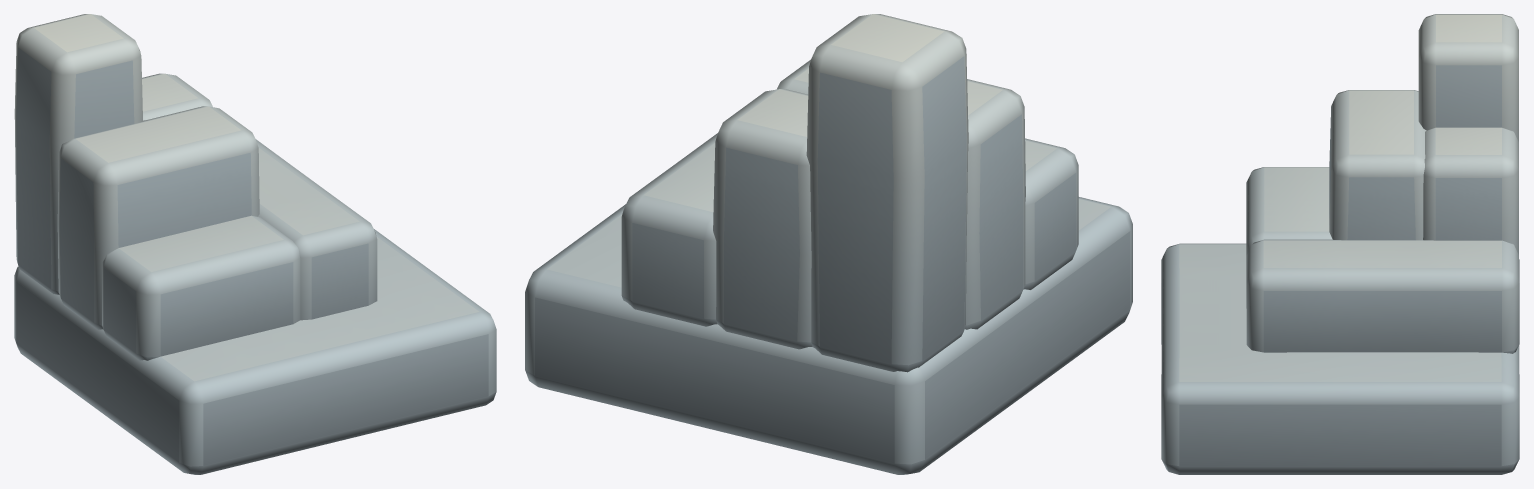
The model's file is Quartz_Plain_Stair_Outer.fbx.
3 views of the same model, side by side, from view 1: azimuth 30°, elevation 25°; view 2: azimuth 150°, elevation 25°; view 3: azimuth 270°, elevation 25° (orthographic). The views are drawn at different scales.
Parts seen in each view (by area): view 1: Quartz_Plain_Stair_Outer_LOD0; view 2: Quartz_Plain_Stair_Outer_LOD0; view 3: Quartz_Plain_Stair_Outer_LOD0.
Boxes of the visible parts, bbox=[...] form: Quartz_Plain_Stair_Outer_LOD0: bbox=[14, 14, 496, 474]; Quartz_Plain_Stair_Outer_LOD0: bbox=[525, 14, 1132, 474]; Quartz_Plain_Stair_Outer_LOD0: bbox=[1161, 14, 1519, 474].
Size of what is drawn, in the model's own units: 1.06 by 1.05 by 1.05.
